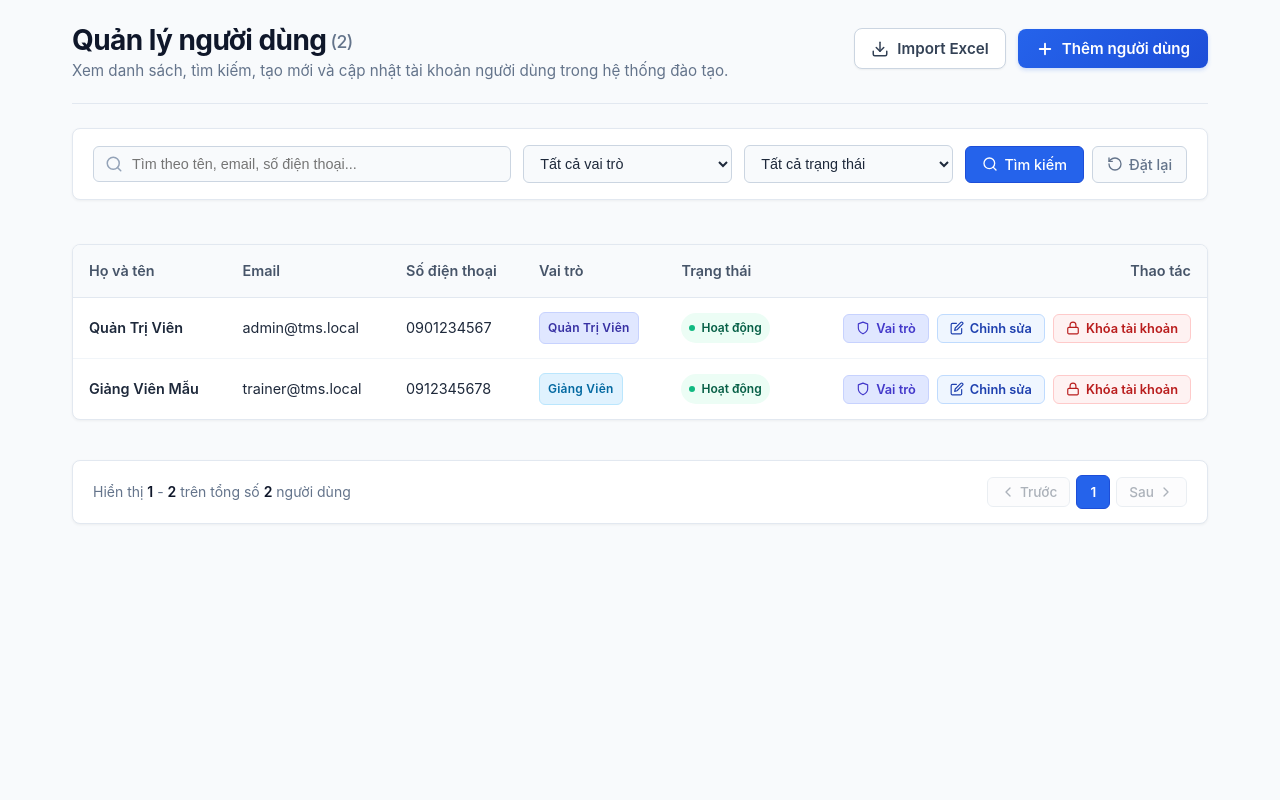
Test case: SCRUM-102: Frontend Overall User Role Management Matrix › 19. thực hiện phân vai trò mới thành công cho người dùng
The width and height of the screenshot is (1280, 800).
Click the button with test id "btn-manage-role-2" at (886, 389), box [843,375,929,404]
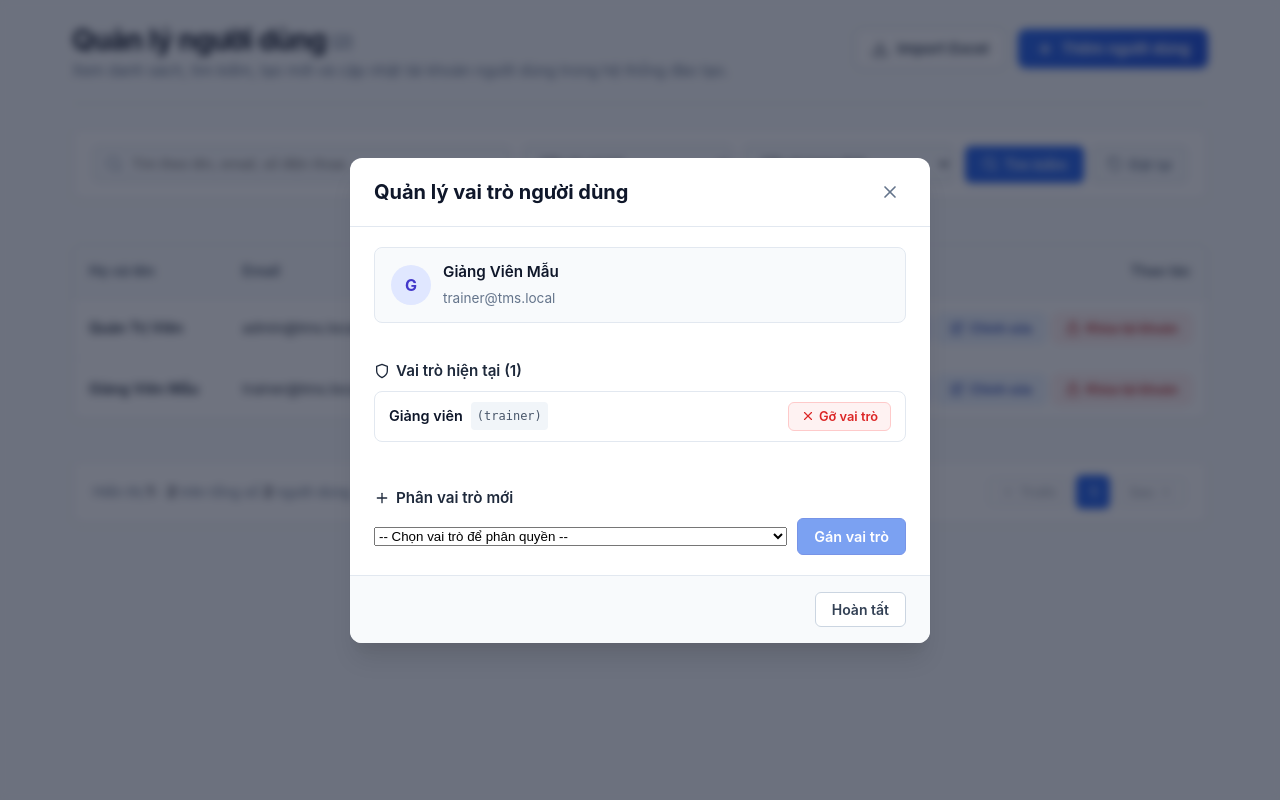
Result: the dropdown with test id "select-assign-role" is shown
Select "Quản trị viên (admin)" in the dropdown with test id "select-assign-role" at (581, 536), box [374,526,787,546]
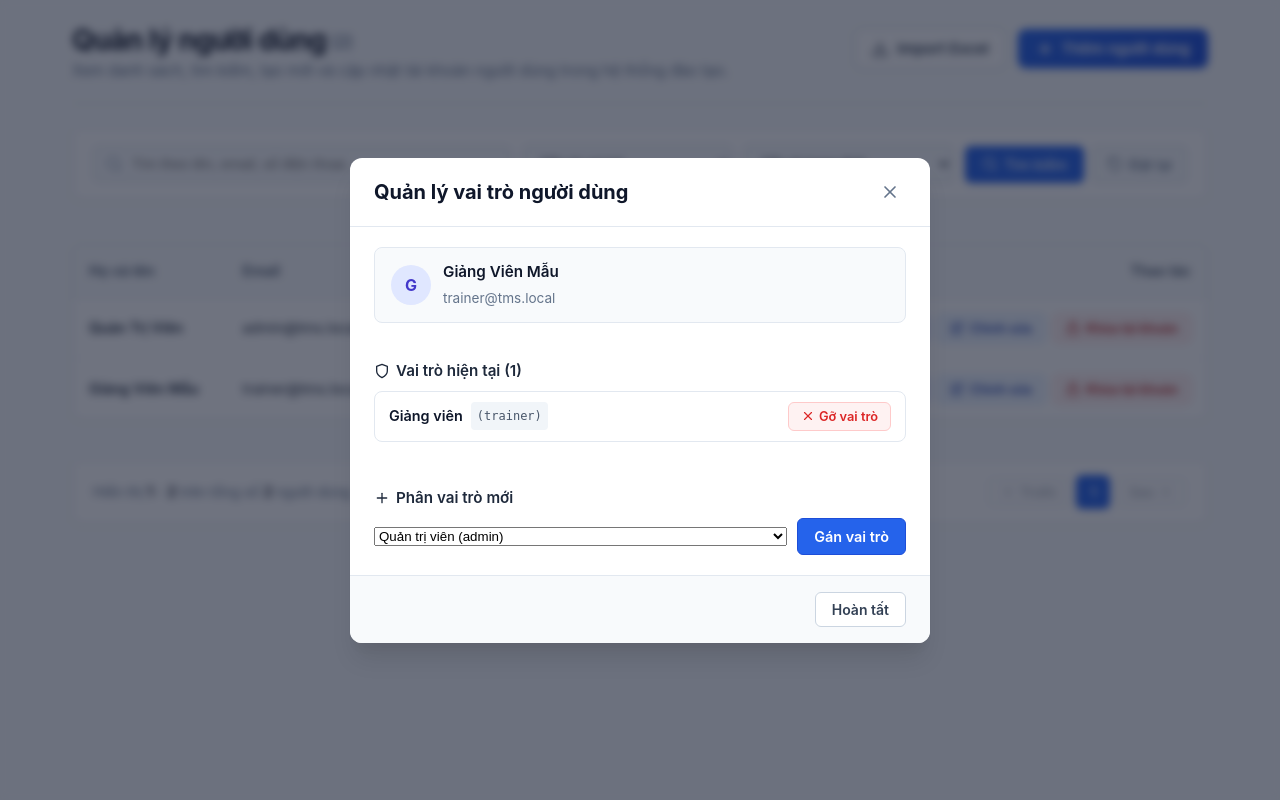
Click the button with test id "btn-assign-role-submit" at (852, 536), box [797,518,906,554]
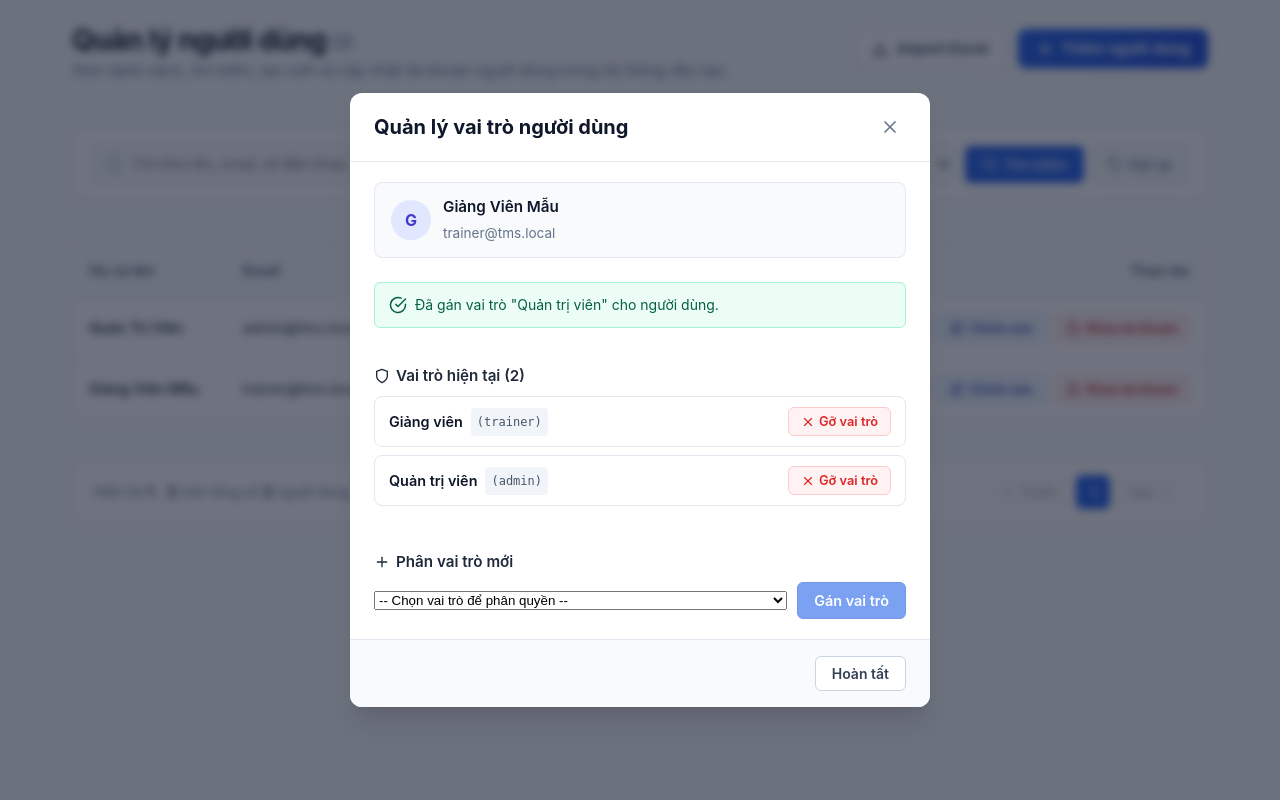
Result: the message "Đã gán vai trò \"Quản trị viên\" cho người dùng." is shown at [374,282,906,328]
Result: the text "Đã gán vai trò \"Quản trị viên\" cho người dùng." is shown at [415,293,719,317]
